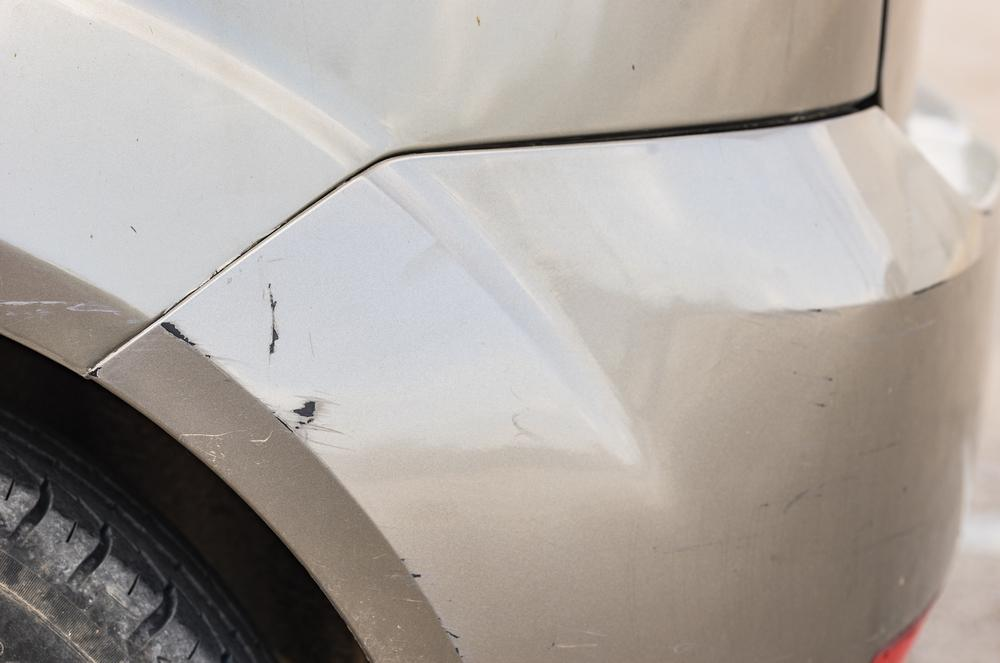scratch: (161, 265, 351, 465), (375, 541, 476, 663), (0, 294, 145, 325)
